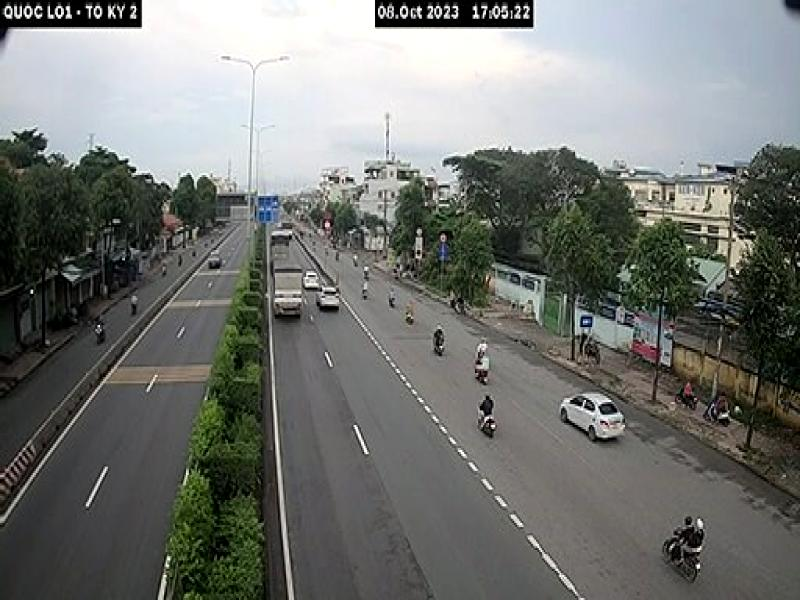car: (560, 391, 625, 442)
